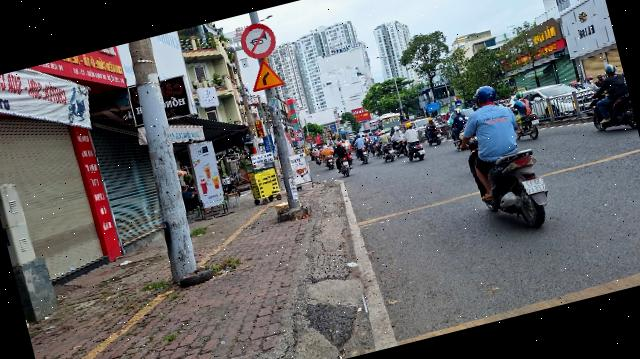cam-bop-coi: (236, 19, 279, 62)
cho-ngoat-nguy-hiem-ben-trai: (246, 55, 284, 92)
